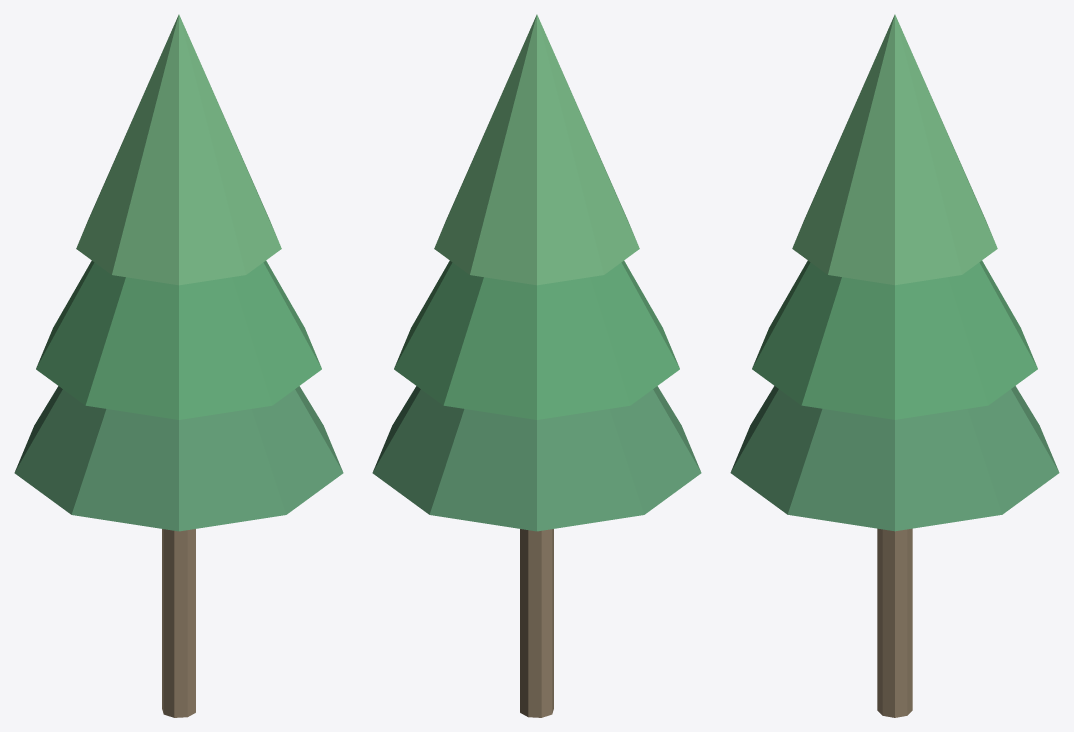
The model's file is pine.glb.
3 views of the same model, side by side, from view 1: azimuth 30°, elevation 25°; view 2: azimuth 150°, elevation 25°; view 3: azimuth 270°, elevation 25° (orthographic).
Visible parts, largest first — view 1: pine_part_1, pine_part_2, pine_part_3, pine_part_0; view 2: pine_part_1, pine_part_2, pine_part_3, pine_part_0; view 3: pine_part_1, pine_part_2, pine_part_3, pine_part_0.
Part boxes in pixels (x1,y1,x2,y2): pine_part_1: (14,386,343,531); pine_part_2: (36,260,321,419); pine_part_3: (76,14,281,285); pine_part_0: (162,529,195,717); pine_part_1: (372,386,701,531); pine_part_2: (394,260,679,419); pine_part_3: (434,14,639,285); pine_part_0: (520,529,553,717); pine_part_1: (730,386,1059,531); pine_part_2: (752,260,1037,419); pine_part_3: (792,14,997,285); pine_part_0: (877,528,912,717).
Bounding box in the file's own units: 3.88 × 9.2 × 3.94.
